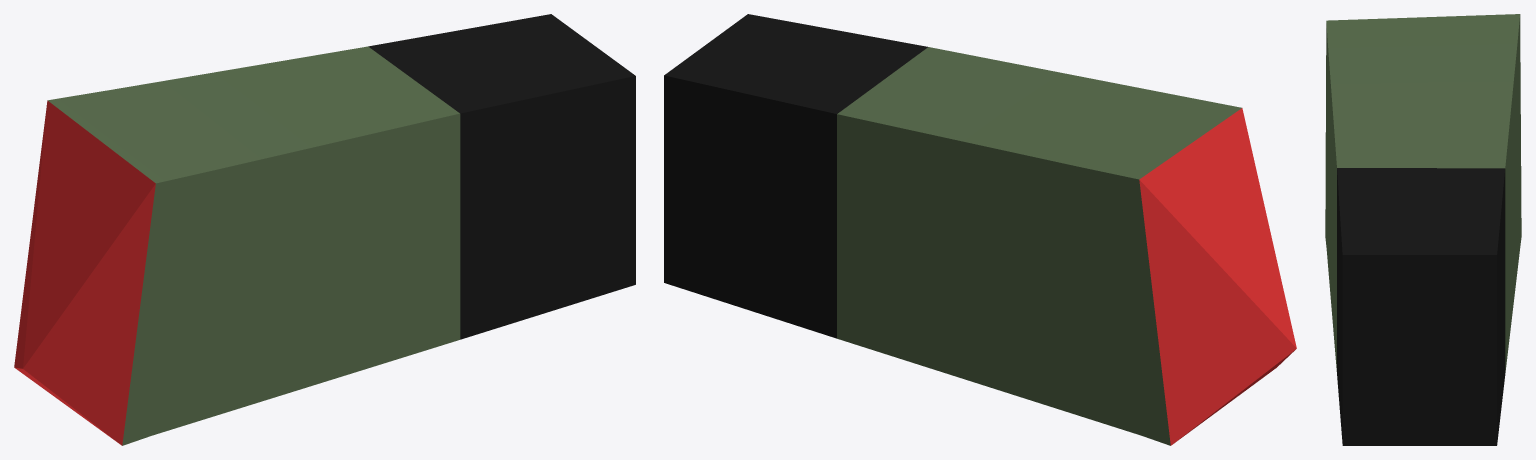
The model's file is CombatantZombie2LeftForearm.glb.
3 views of the same model, side by side, from view 1: azimuth 30°, elevation 25°; view 2: azimuth 150°, elevation 25°; view 3: azimuth 270°, elevation 25° (orthographic). The views are drawn at different scales.
Parts seen in each view (by area): view 1: CombatantZombie2LeftForearm; view 2: CombatantZombie2LeftForearm; view 3: CombatantZombie2LeftForearm.
Part boxes in pixels (<box>): CombatantZombie2LeftForearm: <box>14,14,635,445</box>; CombatantZombie2LeftForearm: <box>664,14,1296,445</box>; CombatantZombie2LeftForearm: <box>1325,14,1521,445</box>.
Bounding box in the file's own units: 2.46 × 1.05 × 0.7845.
Materials: 1 (1 with a texture image).
